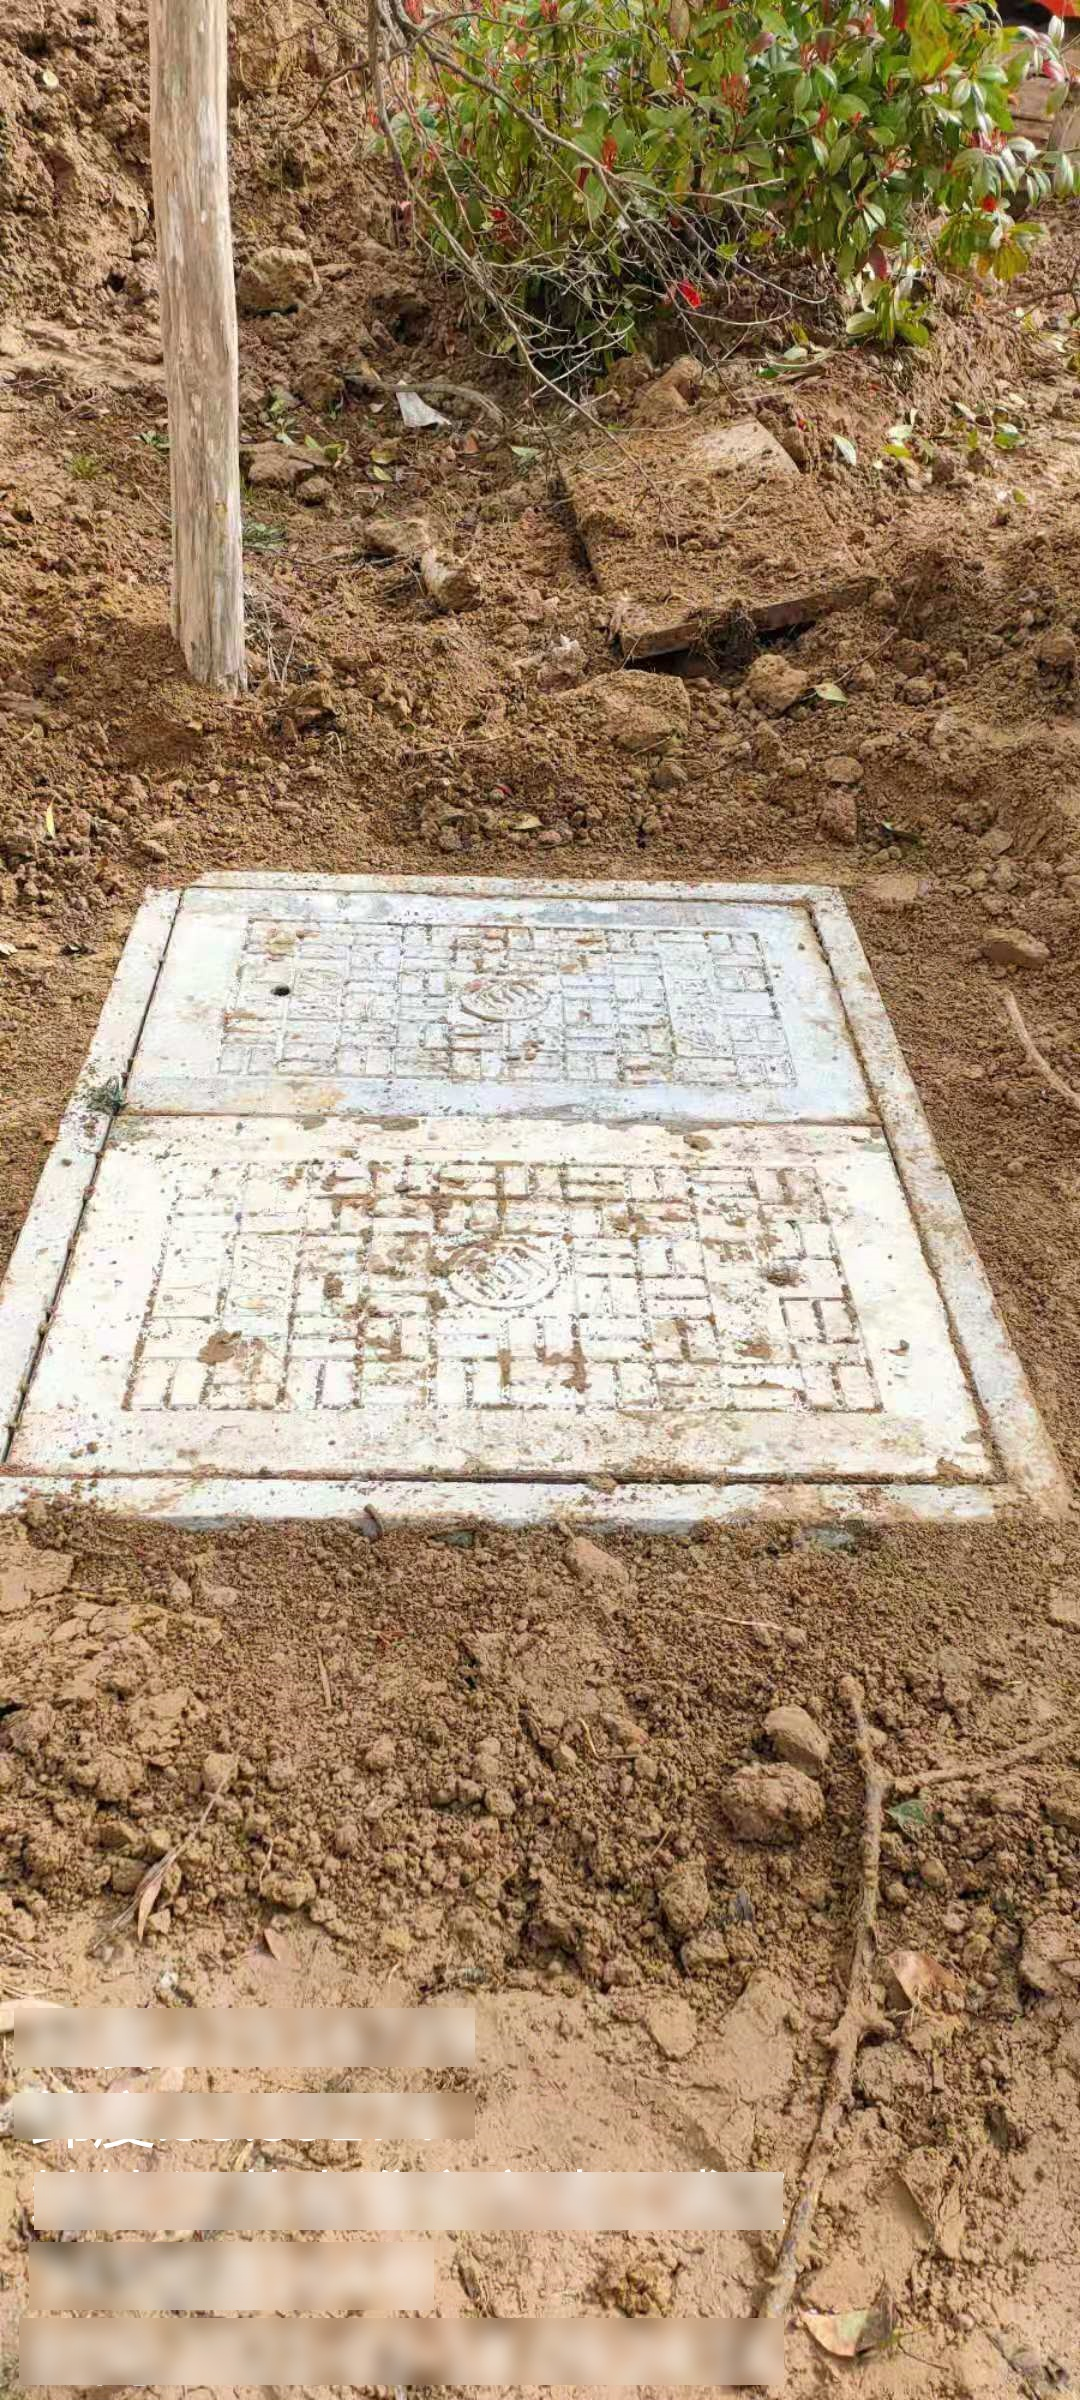well: (5, 866, 1056, 1537)
